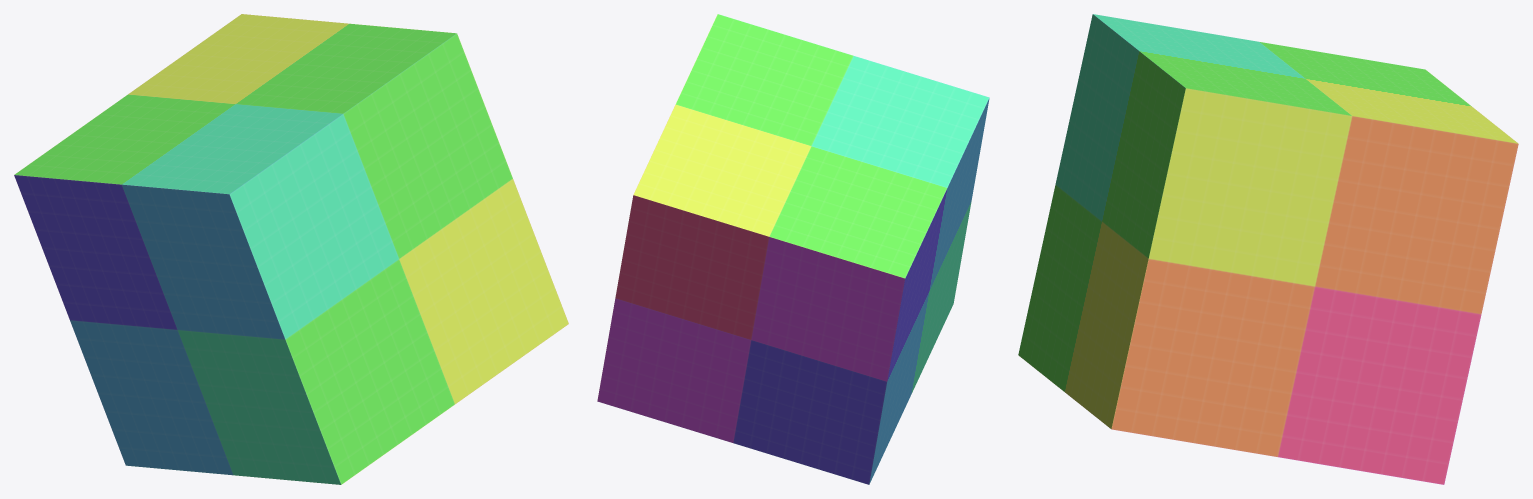
Rendered from gltf_test.glb.
The picture shows the model from 3 angles, left to right: view 1: azimuth 30°, elevation 25°; view 2: azimuth 150°, elevation 25°; view 3: azimuth 270°, elevation 25°; orthographic projection. The views are drawn at different scales.
Parts seen in each view (by area): view 1: Cube; view 2: Cube; view 3: Cube.
Boxes of the visible parts, box(x1,y1,x2,y2) form: Cube: box(14, 14, 568, 484); Cube: box(597, 14, 989, 484); Cube: box(1018, 14, 1518, 484).
Size of what is drawn, in the model's own units: 2.82 by 2.83 by 2.83.
Materials: 1 (1 with a texture image).
